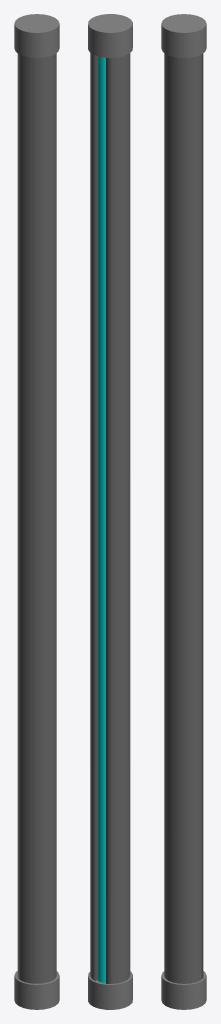
The model's file is SAO.fbx.
3 views of the same model, side by side, from view 1: azimuth 90°, elevation 25°; view 2: azimuth 150°, elevation 25°; view 3: azimuth 270°, elevation 25° (orthographic).
Parts seen in each view (by area): view 1: pCylinder1, pCylinder9, pCylinder2; view 2: pCylinder1, pCylinder10, pCylinder9, pCylinder2; view 3: pCylinder1, pCylinder9, pCylinder2.
Part boxes in pixels (x1,y1,x2,y2): pCylinder1: (17,53,56,983); pCylinder9: (14,14,59,57); pCylinder2: (14,971,59,1009); pCylinder1: (90,53,130,983); pCylinder10: (97,56,105,982); pCylinder9: (88,14,132,57); pCylinder2: (88,971,132,1009); pCylinder1: (164,53,203,983); pCylinder9: (161,14,206,57); pCylinder2: (161,971,206,1009).
Size of the model in its own units: 0.4169 by 9.96 by 0.4169.
